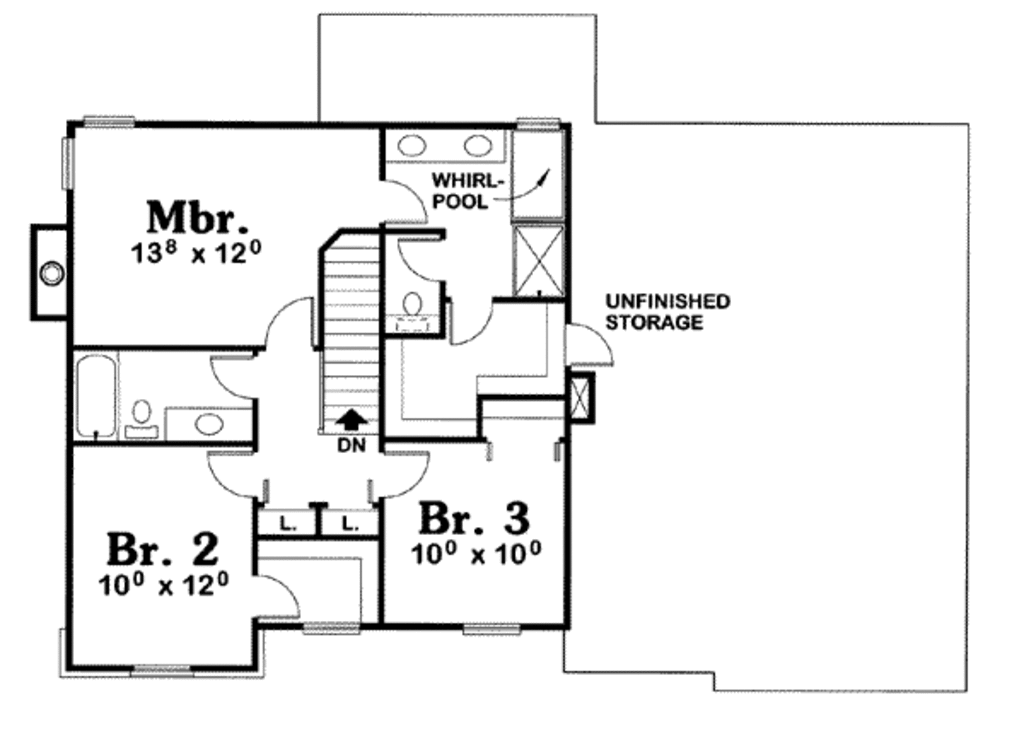door: (366, 442, 442, 505), (199, 352, 275, 405), (198, 446, 266, 505), (258, 290, 320, 350), (559, 309, 618, 370), (378, 174, 440, 229), (442, 296, 498, 347), (243, 573, 302, 619), (396, 235, 449, 284)
large_sink: (390, 288, 440, 334), (117, 398, 166, 439)
small_sink: (383, 124, 512, 165), (161, 403, 263, 447)
stairs: (315, 220, 387, 438)
tub: (68, 352, 124, 444)
window: (296, 607, 363, 637), (125, 659, 199, 681), (54, 134, 81, 191), (504, 111, 563, 134), (75, 109, 140, 128), (460, 623, 527, 638)
